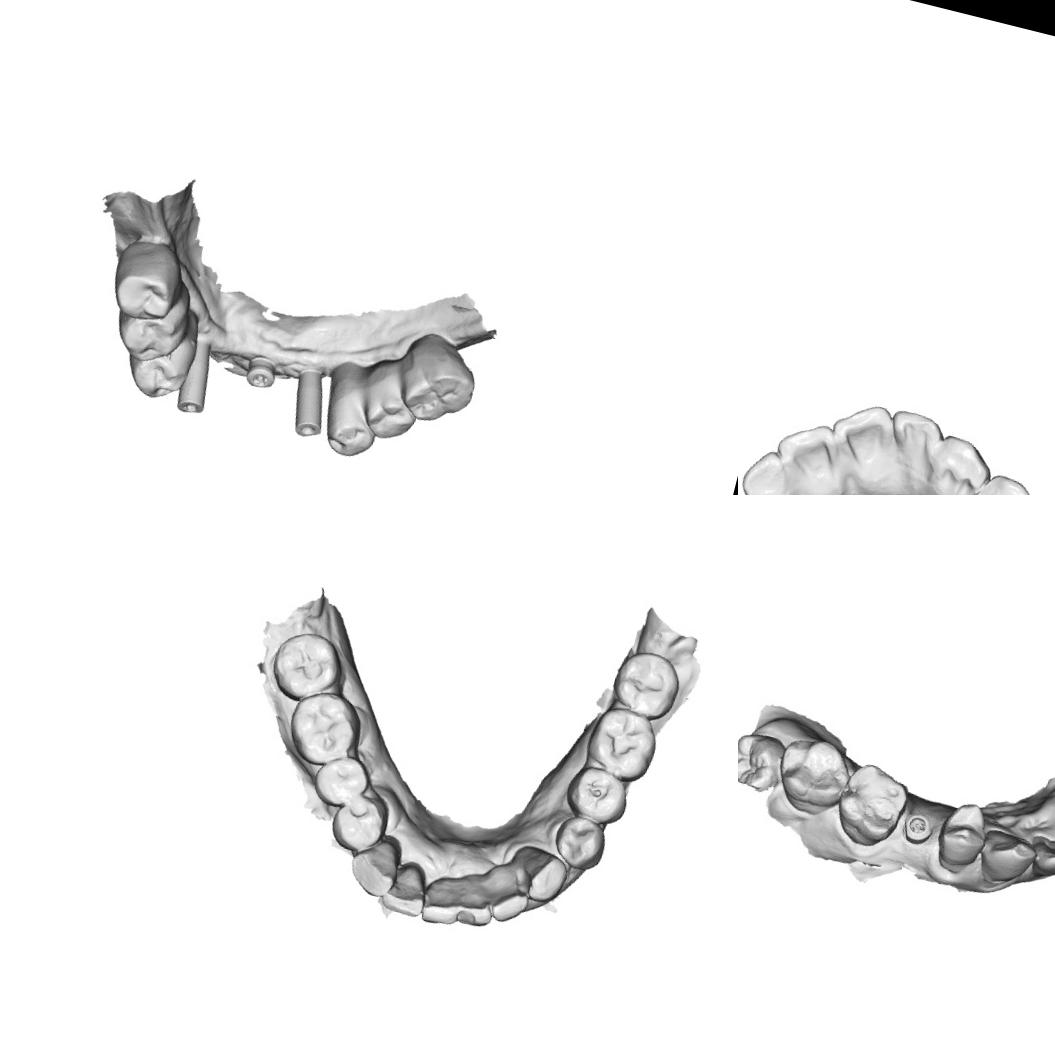canine: (342, 825, 407, 902), (505, 841, 574, 908), (926, 429, 996, 495), (972, 825, 1040, 890)
implant: (170, 333, 222, 422), (284, 361, 337, 444), (899, 810, 936, 847)
implant_plus: (235, 346, 284, 398)
incisor: (769, 411, 846, 488), (827, 397, 902, 466), (879, 402, 950, 472), (377, 854, 434, 920), (738, 442, 797, 495), (481, 872, 534, 930), (415, 874, 468, 929), (450, 878, 500, 934), (1024, 832, 1055, 887)
molar: (392, 334, 487, 431), (768, 731, 857, 822), (828, 758, 914, 852), (280, 683, 368, 773), (105, 238, 191, 328), (265, 622, 349, 706), (581, 701, 664, 785), (605, 643, 687, 723), (738, 726, 789, 795)
premolar: (559, 760, 636, 828), (931, 795, 994, 872), (116, 303, 188, 370), (326, 789, 390, 860), (307, 746, 374, 812), (548, 812, 610, 875), (128, 344, 190, 406), (323, 402, 384, 464), (365, 380, 417, 440), (954, 467, 1040, 495)
